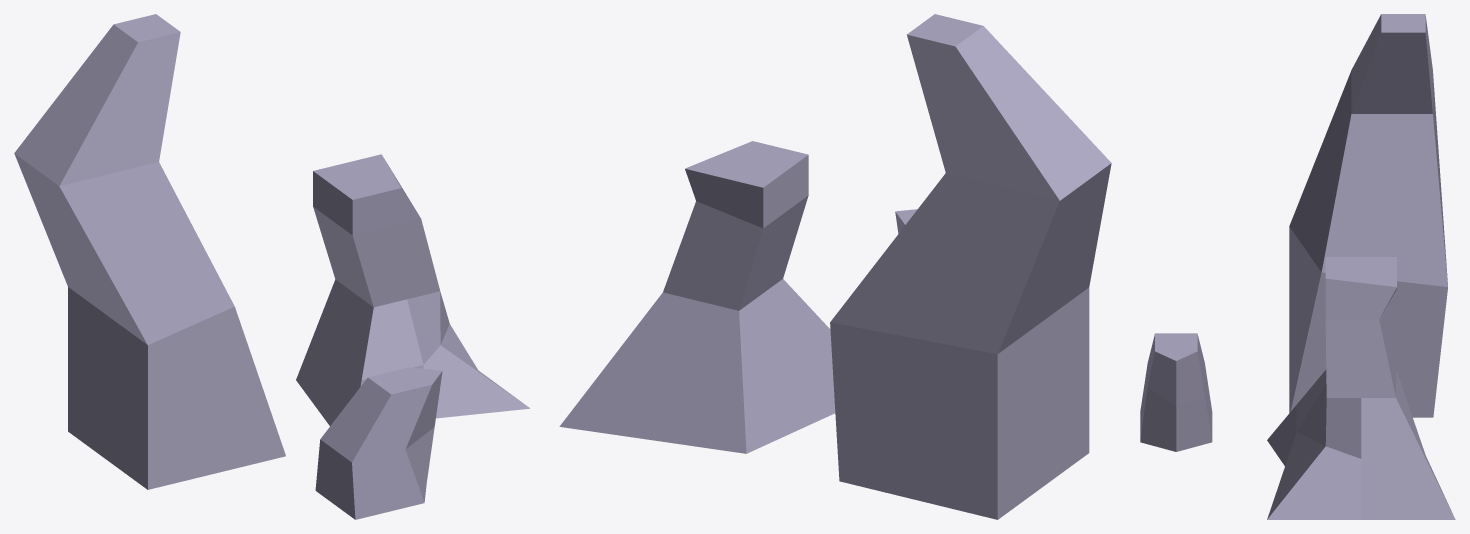
File: Rock2.fbx
3 views of the same model, side by side, from view 1: azimuth 30°, elevation 25°; view 2: azimuth 150°, elevation 25°; view 3: azimuth 270°, elevation 25° (orthographic). The views are drawn at different scales.
Parts seen in each view (by area): view 1: ROCK2; view 2: ROCK2; view 3: ROCK2.
Boxes of the visible parts, box(x1,y1,x2,y2) form: ROCK2: box(14, 14, 530, 519); ROCK2: box(559, 14, 1111, 519); ROCK2: box(1140, 14, 1455, 519).
Bounding box in the file's own units: 307 × 276 × 219.
